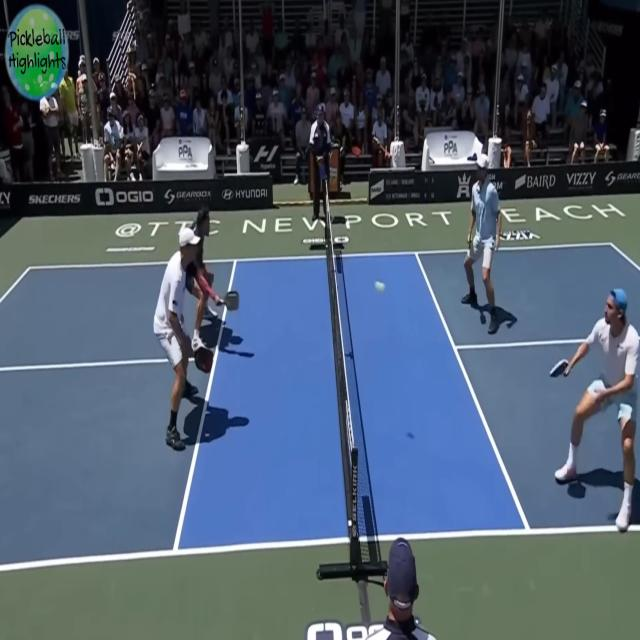ball: (373, 276, 386, 297)
